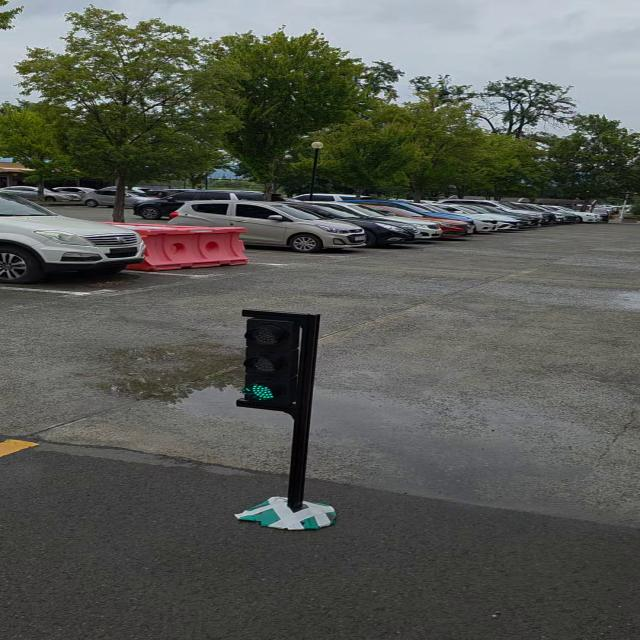green: (248, 311, 311, 410)
